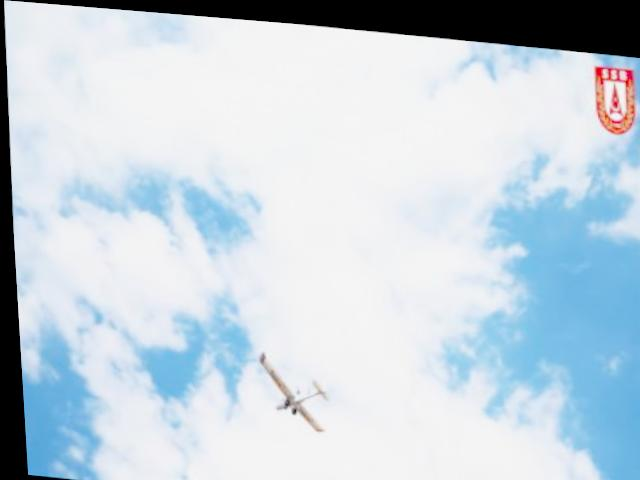uav: (252, 344, 326, 430)
